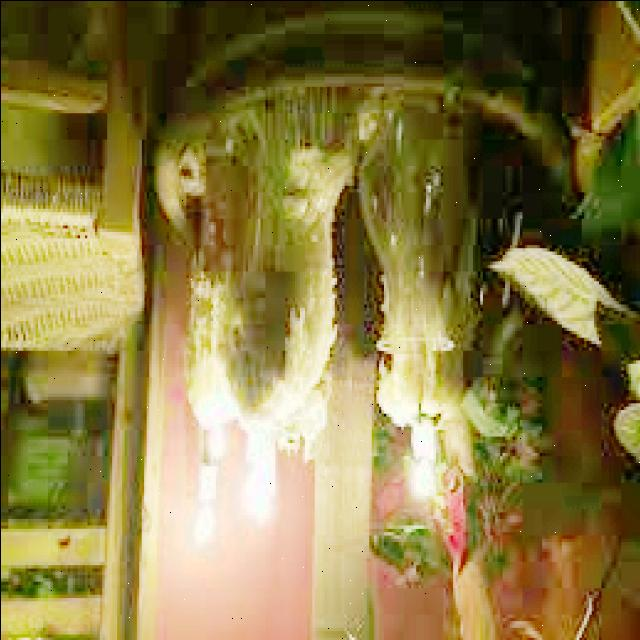api: (246, 489, 278, 542), (191, 502, 221, 552), (414, 457, 444, 503)
